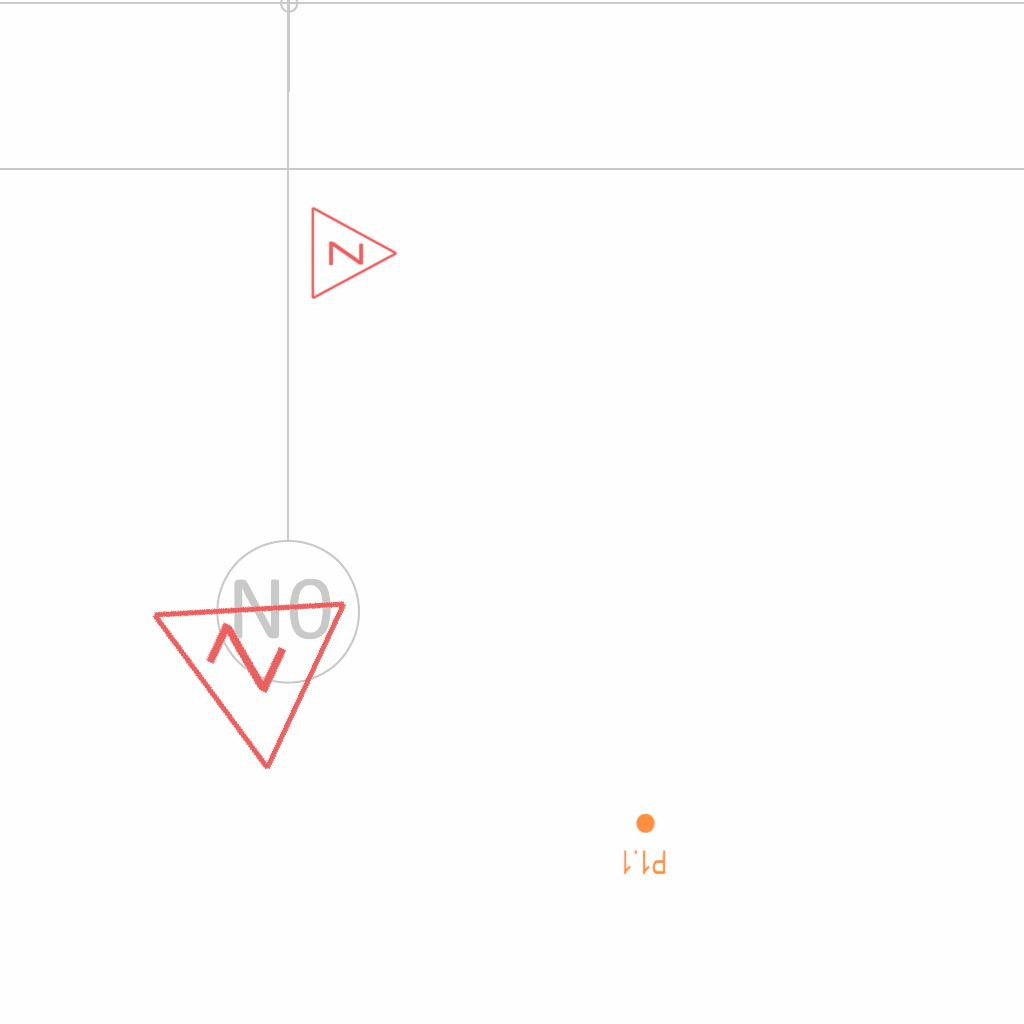Downlight_LED_Einbauleuchten_Flur: (621, 812, 667, 876)
Zimmersignalleuchte: (97, 521, 363, 785), (304, 203, 404, 301)
